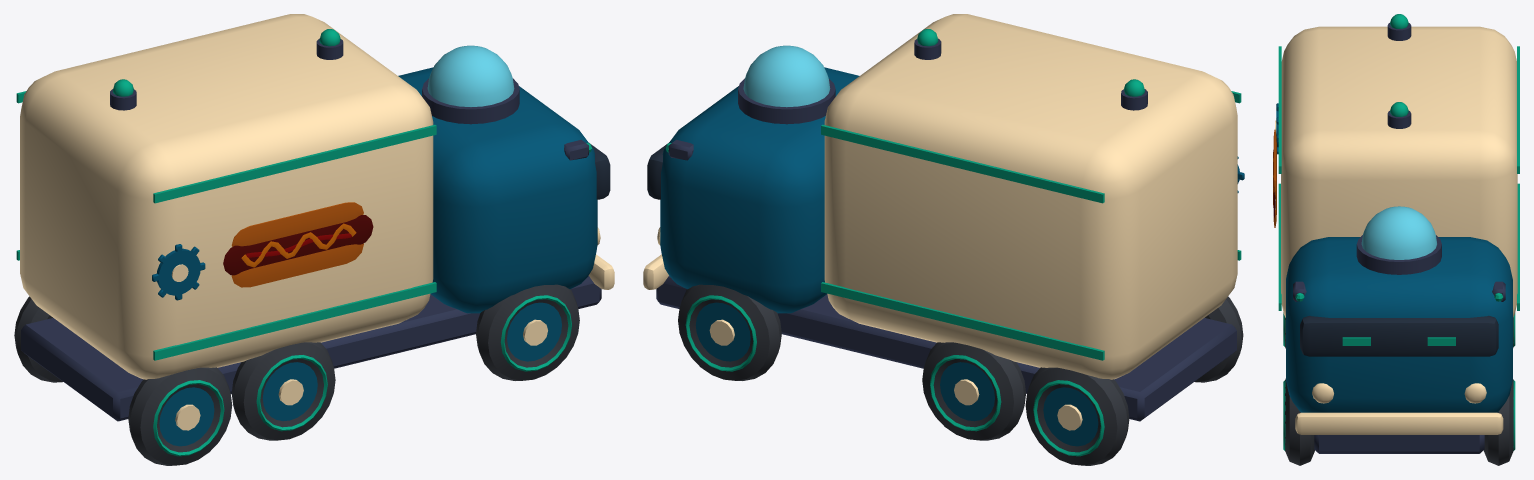
Rendered from RobotTruck.obj.
3 views of the same model, side by side, from view 1: azimuth 30°, elevation 25°; view 2: azimuth 150°, elevation 25°; view 3: azimuth 270°, elevation 25° (orthographic). The views are drawn at different scales.
Parts seen in each view (by area): view 1: RobotTruck; view 2: RobotTruck; view 3: RobotTruck.
Boxes of the visible parts, x1,y1,x2,y2 form: RobotTruck: [14, 14, 614, 465]; RobotTruck: [643, 14, 1244, 465]; RobotTruck: [1273, 14, 1519, 465].
Bounding box in the file's own units: 10.5 × 6.97 × 5.22.
